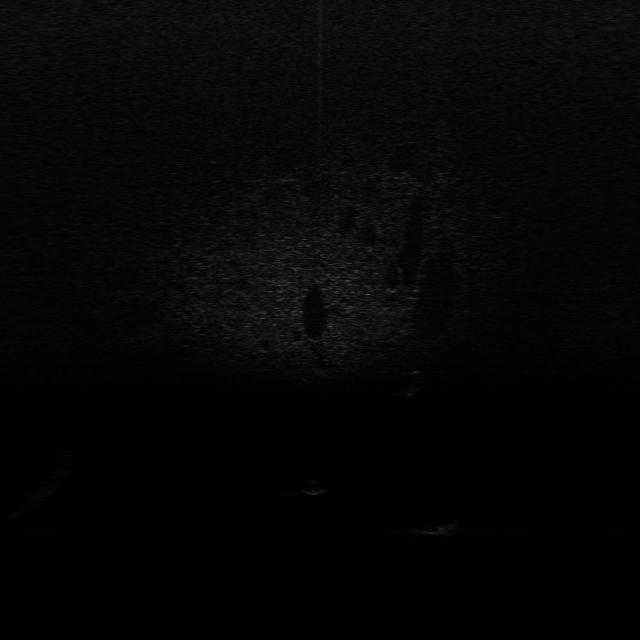ball: (297, 478, 329, 498)
square cage: (412, 516, 458, 538)
tyre: (401, 367, 428, 397)
